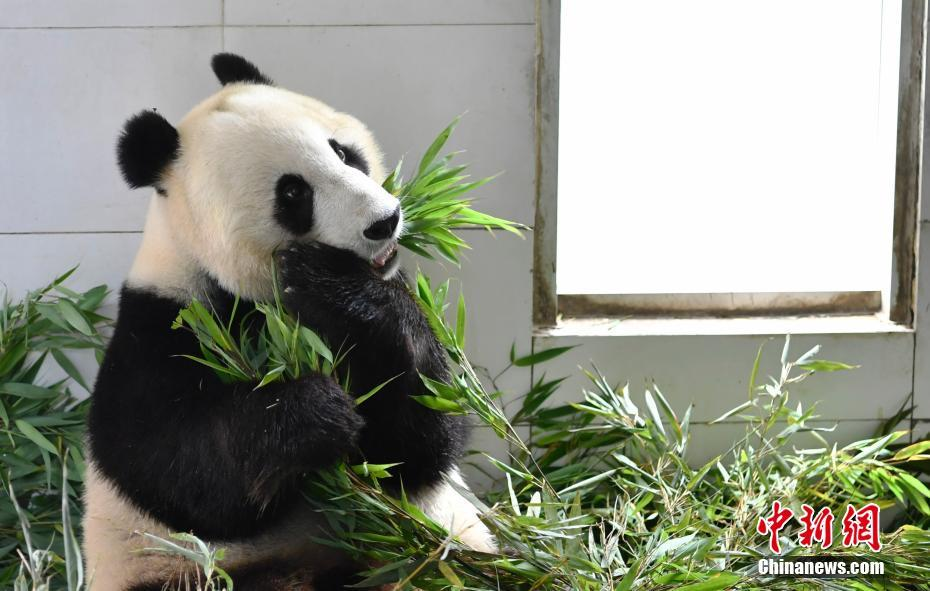panda: (83, 45, 548, 580)
